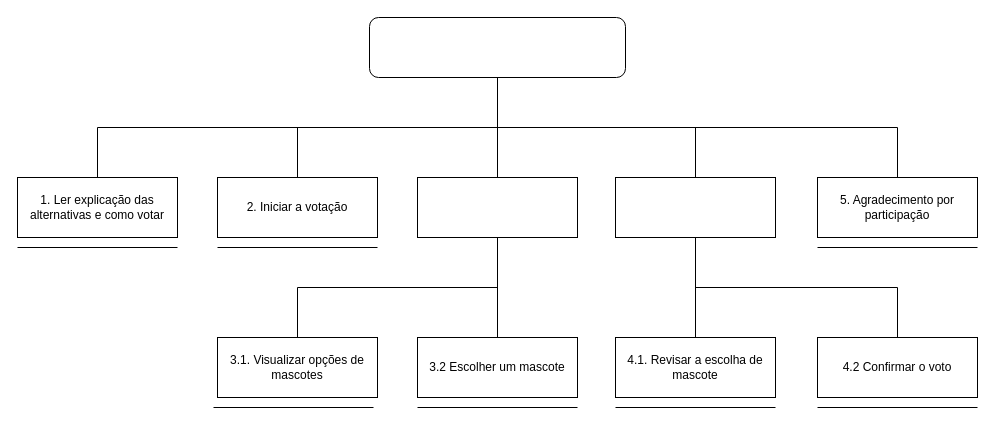
Image size: 996x426. Some labels were removed from this diagram. The shapes that lost their labels are listed below. From the top down, each one's centre as x and y in pixels, then its label:
At (497,47): "Escolher o mascote da universidade".
At (497,207): "3. Votar".
At (695,207): "4. Confirmação de voto".
